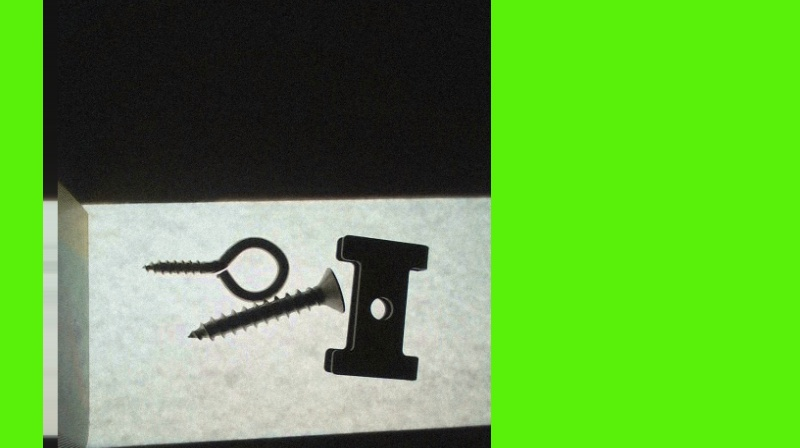O001: (138, 231, 292, 305)
O002: (319, 230, 430, 383)
S001: (182, 264, 346, 341)
